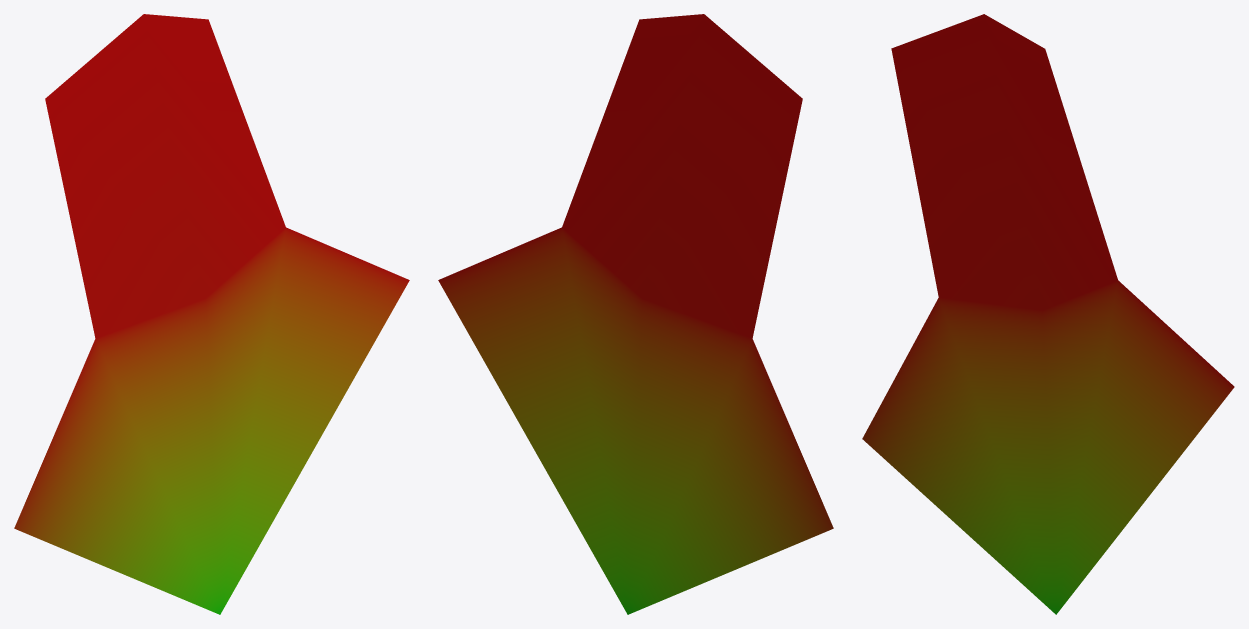
File: Field Poppy_LOD4_Var13_vmcobd0ja.fbx
3 views of the same model, side by side, from view 1: azimuth 30°, elevation 25°; view 2: azimuth 150°, elevation 25°; view 3: azimuth 330°, elevation 25° (orthographic). The views are drawn at different scales.
Visible parts, largest first — view 1: _32vf_Var13_LOD4; view 2: _32vf_Var13_LOD4; view 3: _32vf_Var13_LOD4.
Boxes of the visible parts, x1,y1,x2,y2 form: _32vf_Var13_LOD4: (14,14,409,614); _32vf_Var13_LOD4: (438,14,833,614); _32vf_Var13_LOD4: (862,14,1234,614).
Size of the model in its own units: 28.41 by 42.51 by 5.07e-06.
